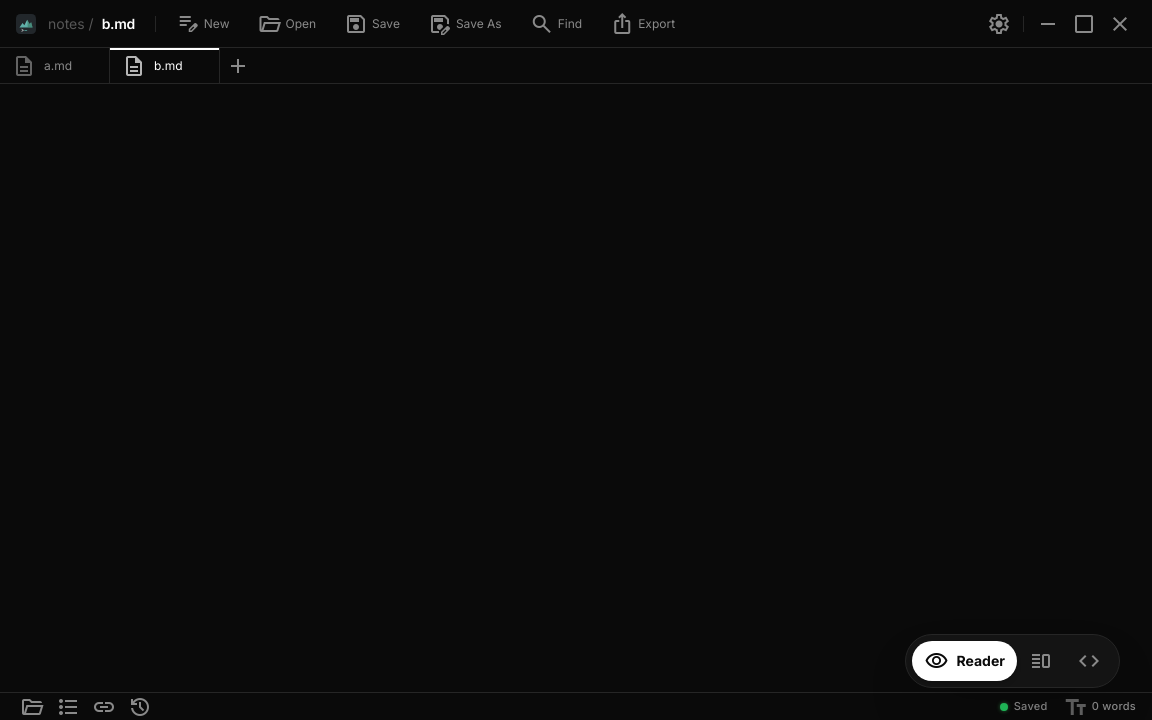
App background autosave failures › says which file failed, and why
Press the mouse on the tab "a.md" at (55, 66), box [0, 48, 110, 83]
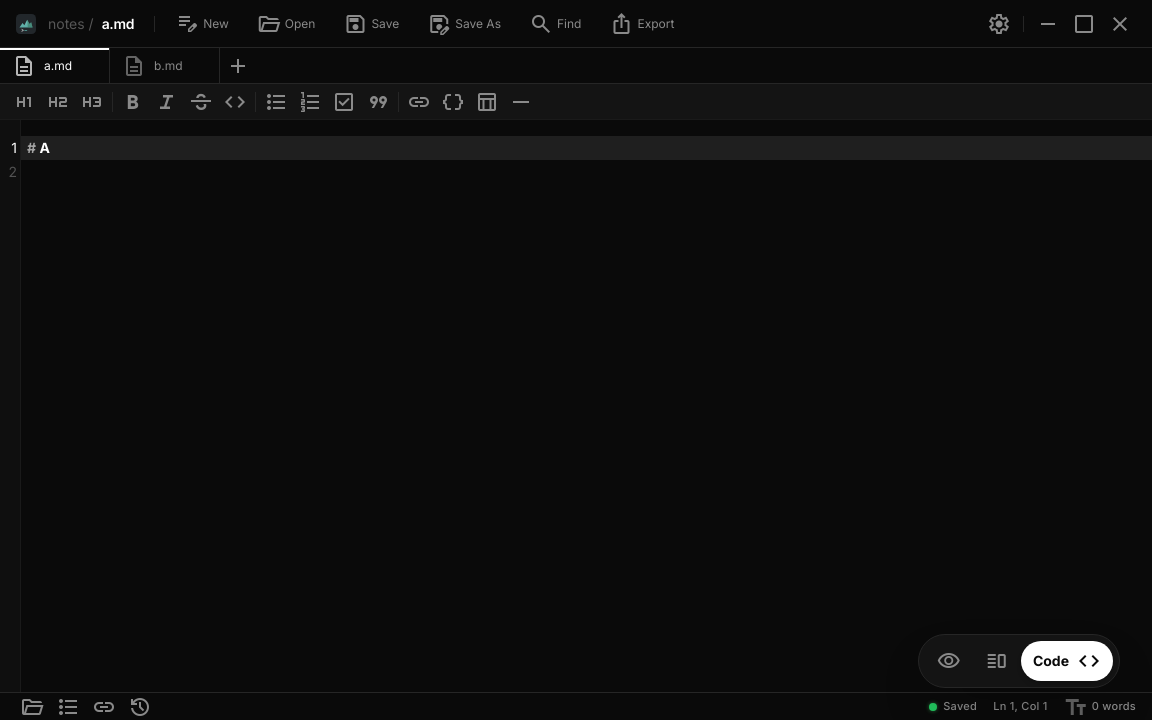
Click the button named "bold". click: (133, 102)
box: [117, 86, 149, 118]
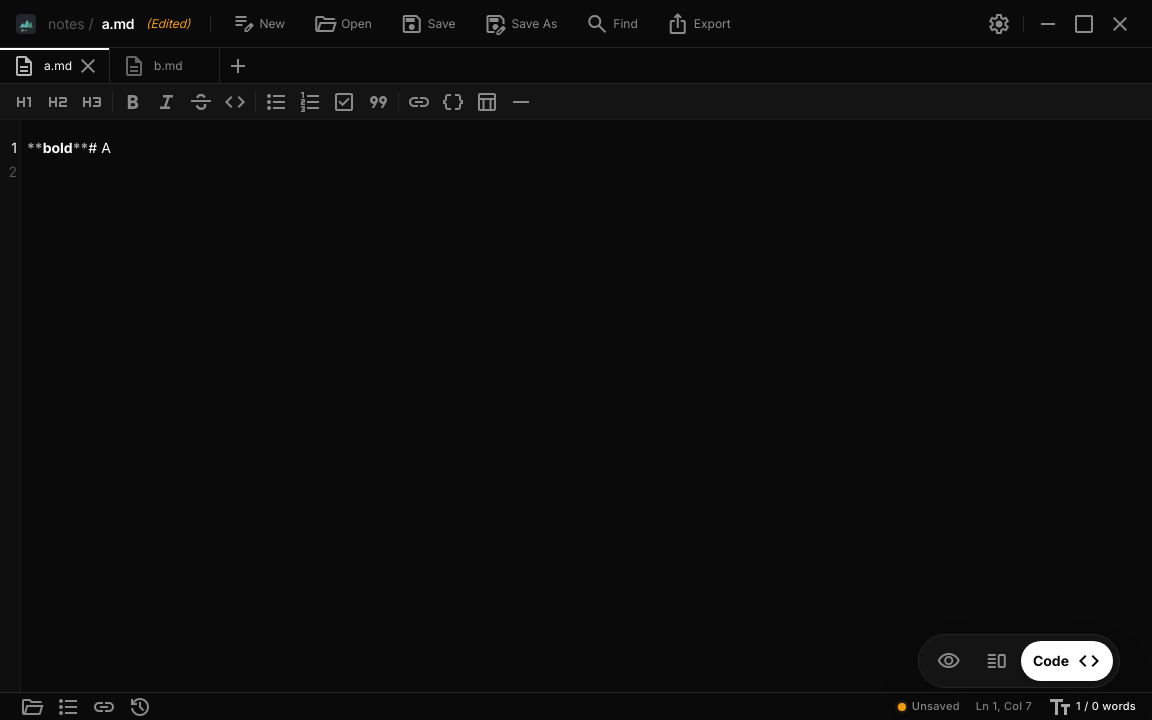
expect the text "Unsaved" is shown: met, box [912, 698, 960, 715]
Press the mouse on the tab "b.md" at (165, 66), box [110, 48, 220, 83]
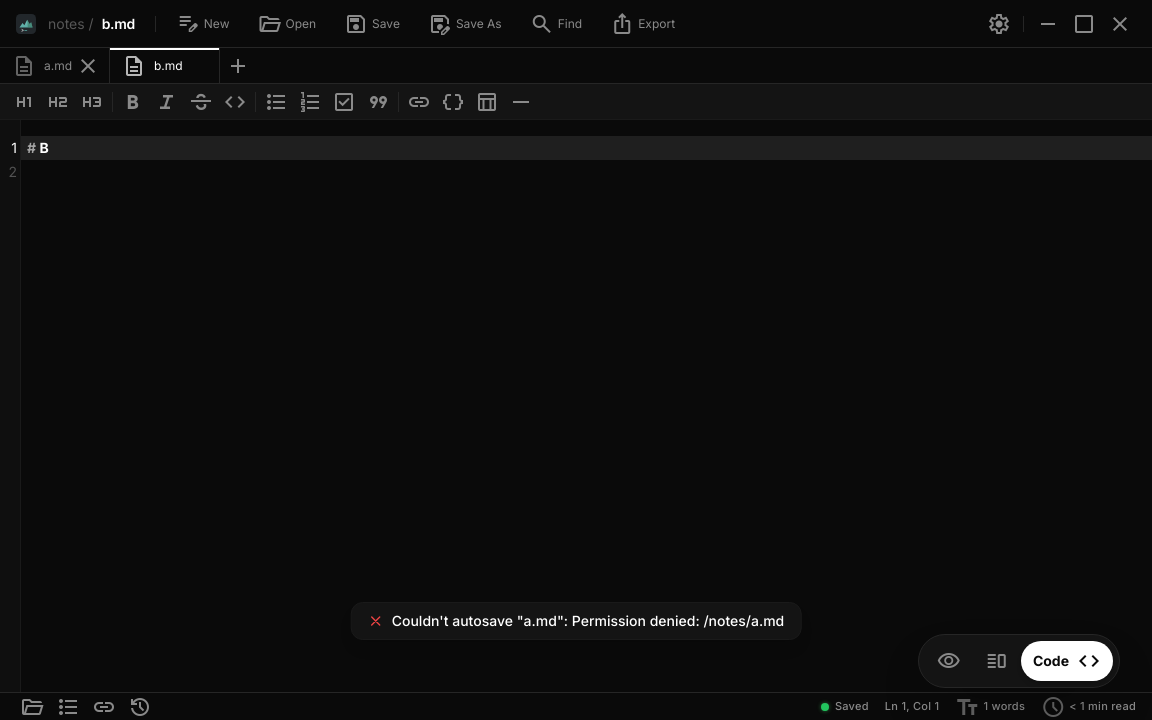
expect the text "Couldn't autosave \"a.md\": Permission denied: /notes/a.md" is shown once: met, box [368, 611, 784, 631]
expect the text "Couldn't autosave \"a.md\": Permission denied: /notes/a.md" is shown: met, box [368, 611, 784, 631]
